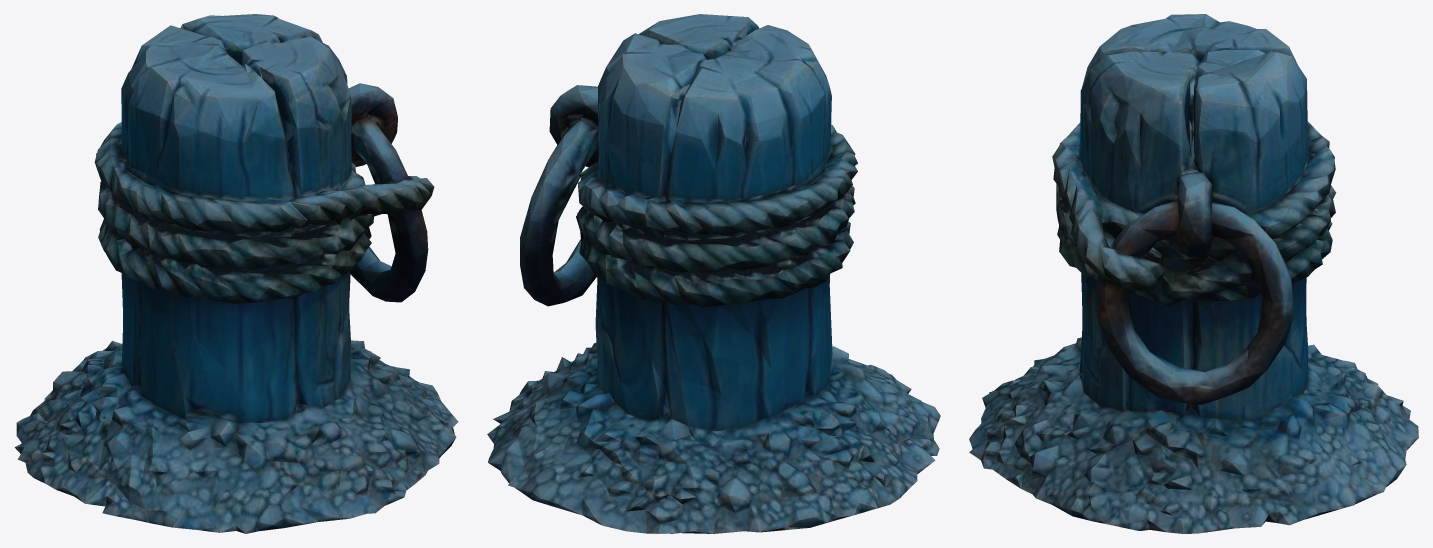
Rendered from mooring_post.glb.
3 views of the same model, side by side, from view 1: azimuth 30°, elevation 25°; view 2: azimuth 150°, elevation 25°; view 3: azimuth 270°, elevation 25° (orthographic).
Visible parts, largest first — view 1: tripo_node_7c73c53c-a9fc-4528-847d-2fd172407425.001; view 2: tripo_node_7c73c53c-a9fc-4528-847d-2fd172407425.001; view 3: tripo_node_7c73c53c-a9fc-4528-847d-2fd172407425.001.
Part boxes in pixels (x1=…): tripo_node_7c73c53c-a9fc-4528-847d-2fd172407425.001: x1=14, y1=14, x2=458, y2=533; tripo_node_7c73c53c-a9fc-4528-847d-2fd172407425.001: x1=487, y1=14, x2=940, y2=533; tripo_node_7c73c53c-a9fc-4528-847d-2fd172407425.001: x1=969, y1=14, x2=1418, y2=533.
Bounding box in the file's own units: 0.9965 × 0.9572 × 0.9959.
Materials: 1 (1 with a texture image).
